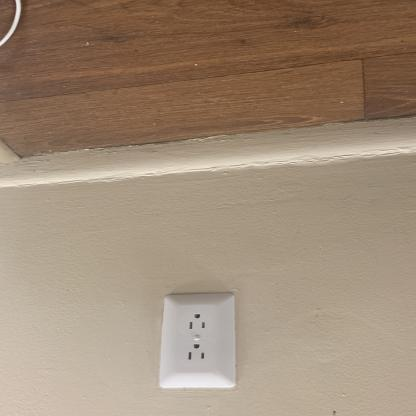OUTLET: (158, 292, 238, 390)
